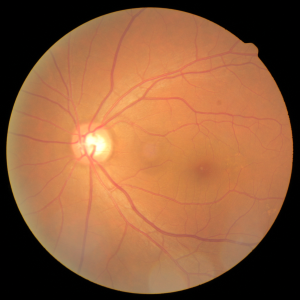glaucoma: (42, 102, 227, 212)
